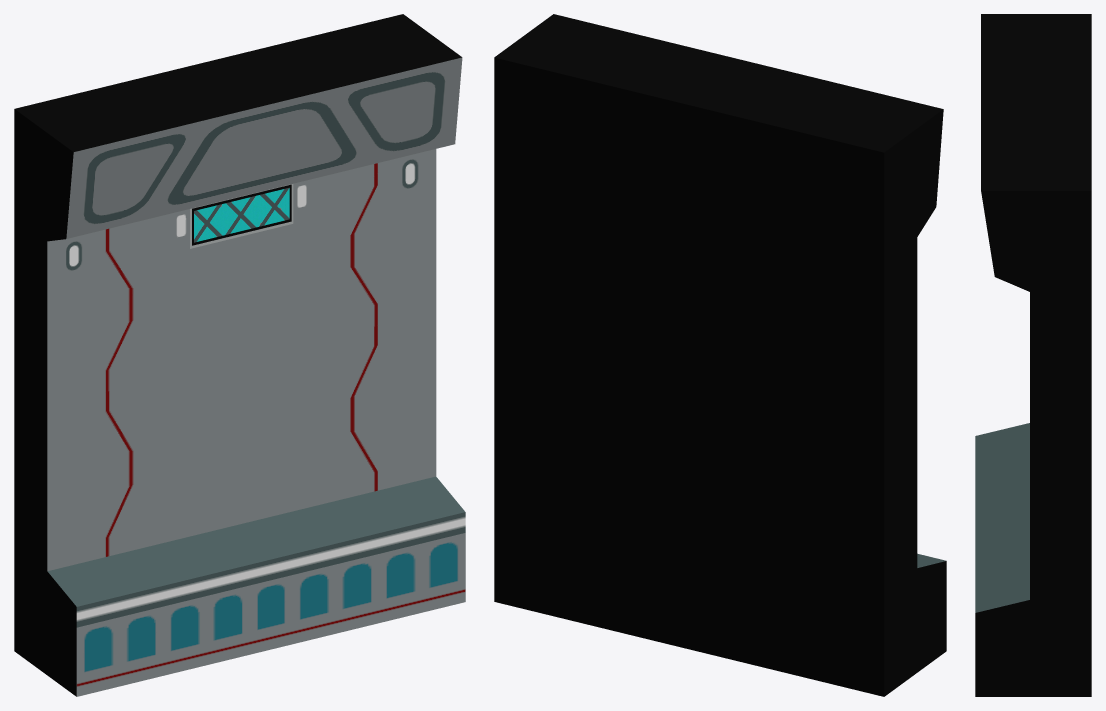
Rendered from P1_Simple1.fbx.
3 views of the same model, side by side, from view 1: azimuth 30°, elevation 25°; view 2: azimuth 150°, elevation 25°; view 3: azimuth 270°, elevation 25° (orthographic). The views are drawn at different scales.
Visible parts, largest first — view 1: Cube.005; view 2: Cube.005; view 3: Cube.005.
Boxes of the visible parts, x1,y1,x2,y2 form: Cube.005: [14, 14, 465, 696]; Cube.005: [494, 14, 946, 696]; Cube.005: [975, 14, 1091, 696].
Bounding box in the file's own units: 300 × 83.32 × 400.
